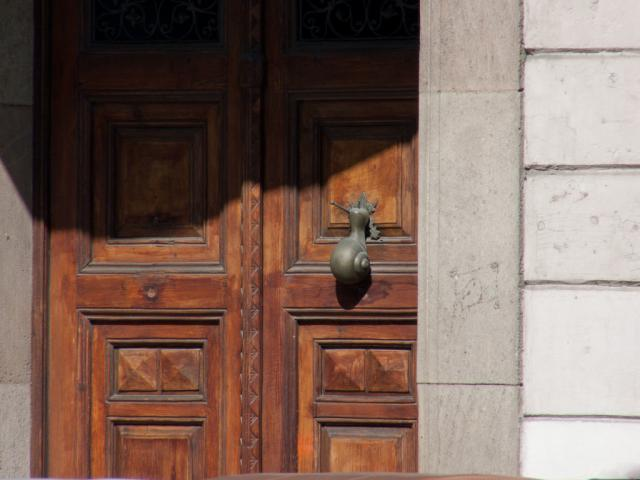Door-handle: (329, 190, 384, 287)
